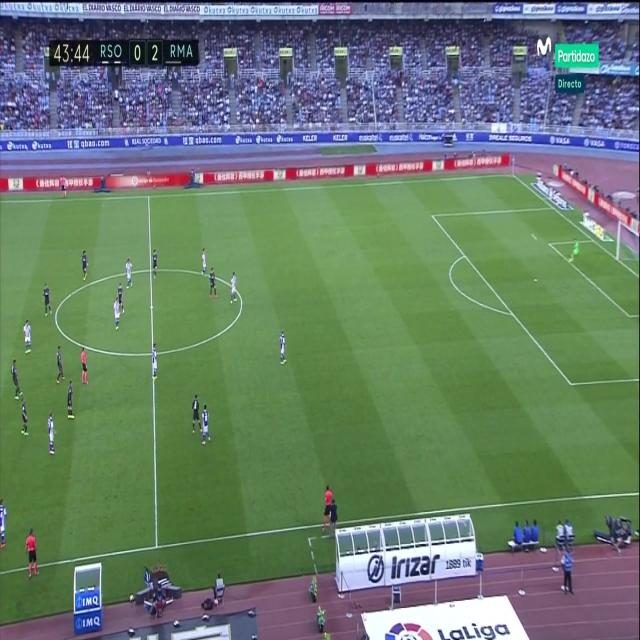Ball: (528, 228, 540, 245)
Goalkeeper: (565, 236, 580, 265)
Player: (45, 410, 60, 460), (9, 357, 24, 403), (189, 392, 202, 436), (200, 402, 212, 449), (0, 500, 10, 554), (64, 378, 76, 423), (54, 344, 66, 386), (228, 268, 240, 307), (207, 264, 218, 301), (42, 282, 53, 318), (23, 318, 33, 356), (150, 341, 159, 383), (20, 400, 30, 437), (278, 330, 288, 366), (124, 257, 134, 292), (151, 248, 160, 284), (117, 281, 126, 316), (113, 295, 121, 334), (81, 247, 89, 284), (200, 246, 208, 277)
Referee: (24, 528, 41, 582), (320, 484, 334, 533), (80, 345, 90, 386), (60, 174, 67, 200)
